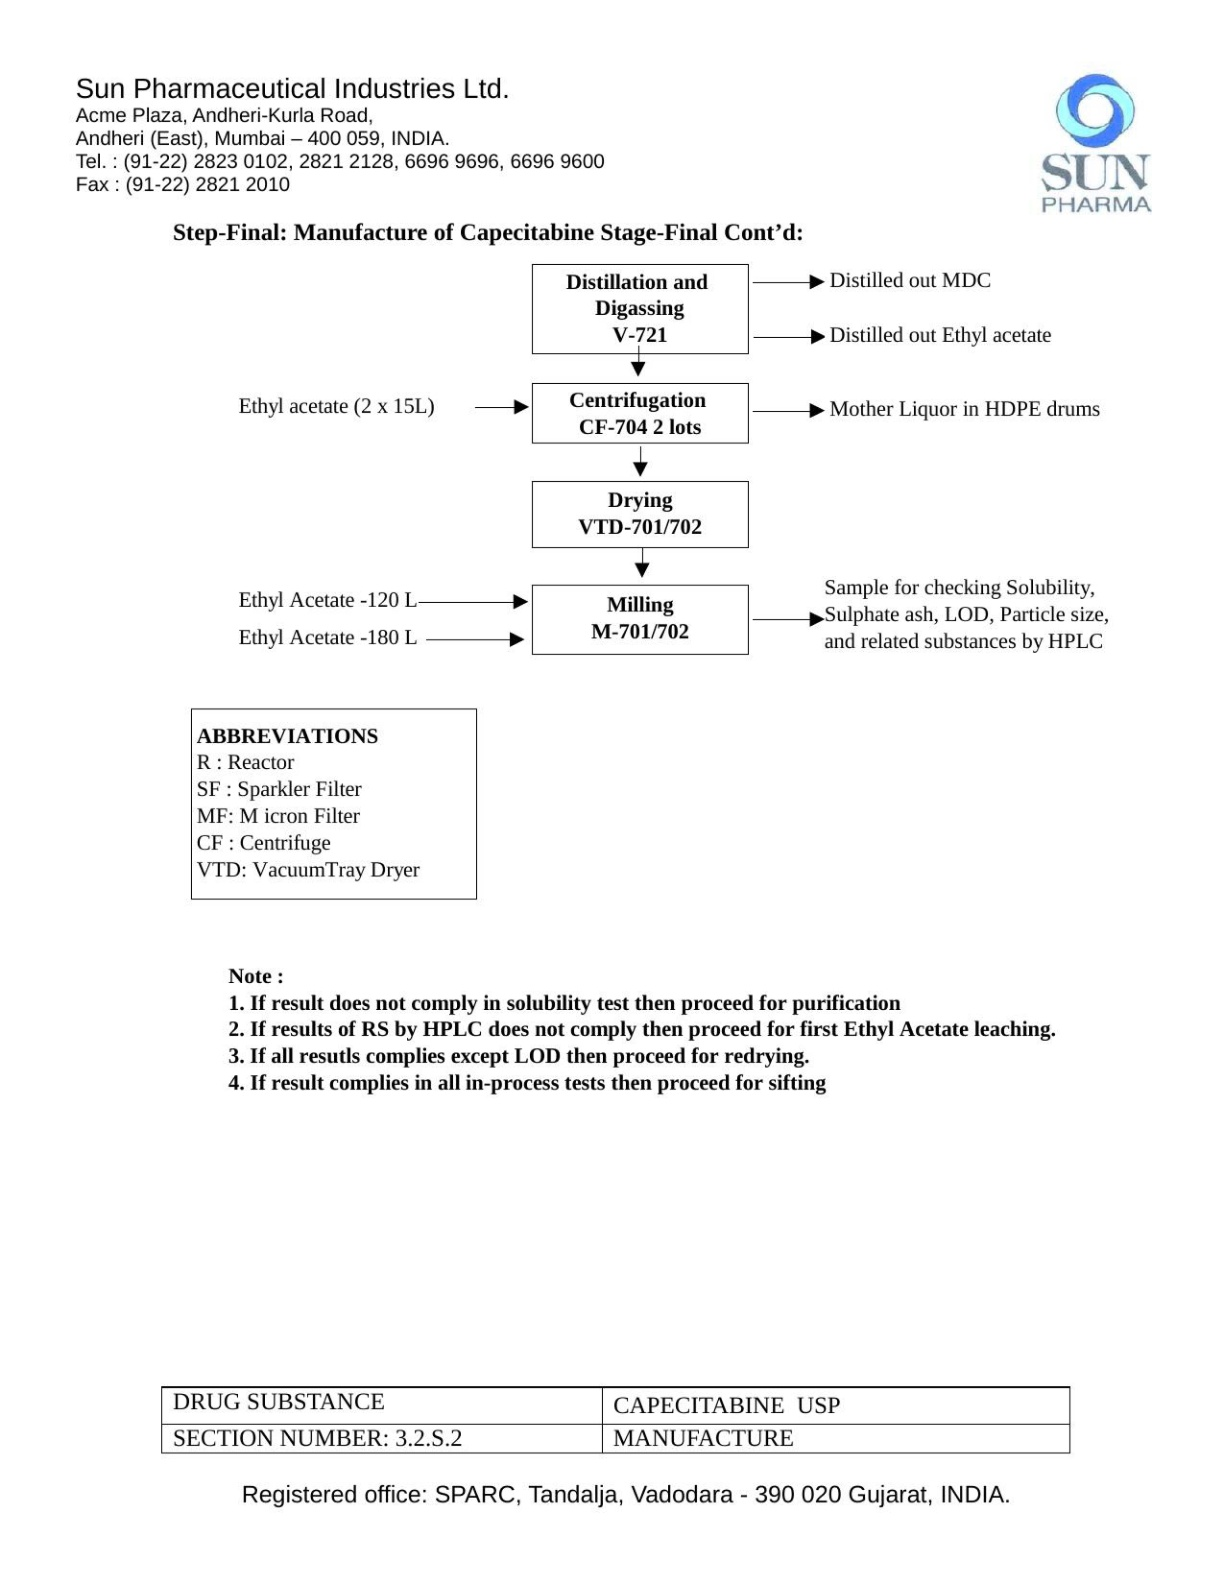full_lined: (159, 1384, 1071, 1454)
